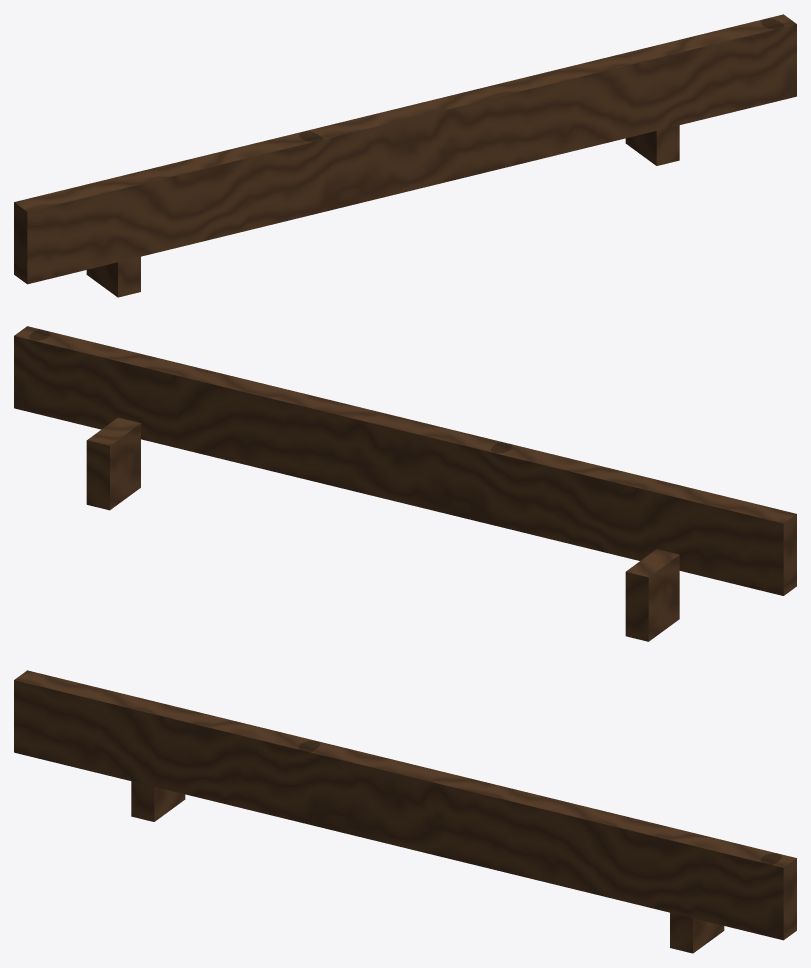
File: eave_trim_2m.glb
3 views of the same model, one above another, from view 1: azimuth 30°, elevation 25°; view 2: azimuth 150°, elevation 25°; view 3: azimuth 330°, elevation 25° (orthographic).
Parts seen in each view (by area): view 1: eave_trim_2m; view 2: eave_trim_2m; view 3: eave_trim_2m.
Part boxes in pixels (x1,y1,x2,y2): eave_trim_2m: (14,14,796,297); eave_trim_2m: (14,326,796,641); eave_trim_2m: (14,670,796,953).
Size of the model in its own units: 2 by 0.3 by 0.2.
1 material, 1 textured.
